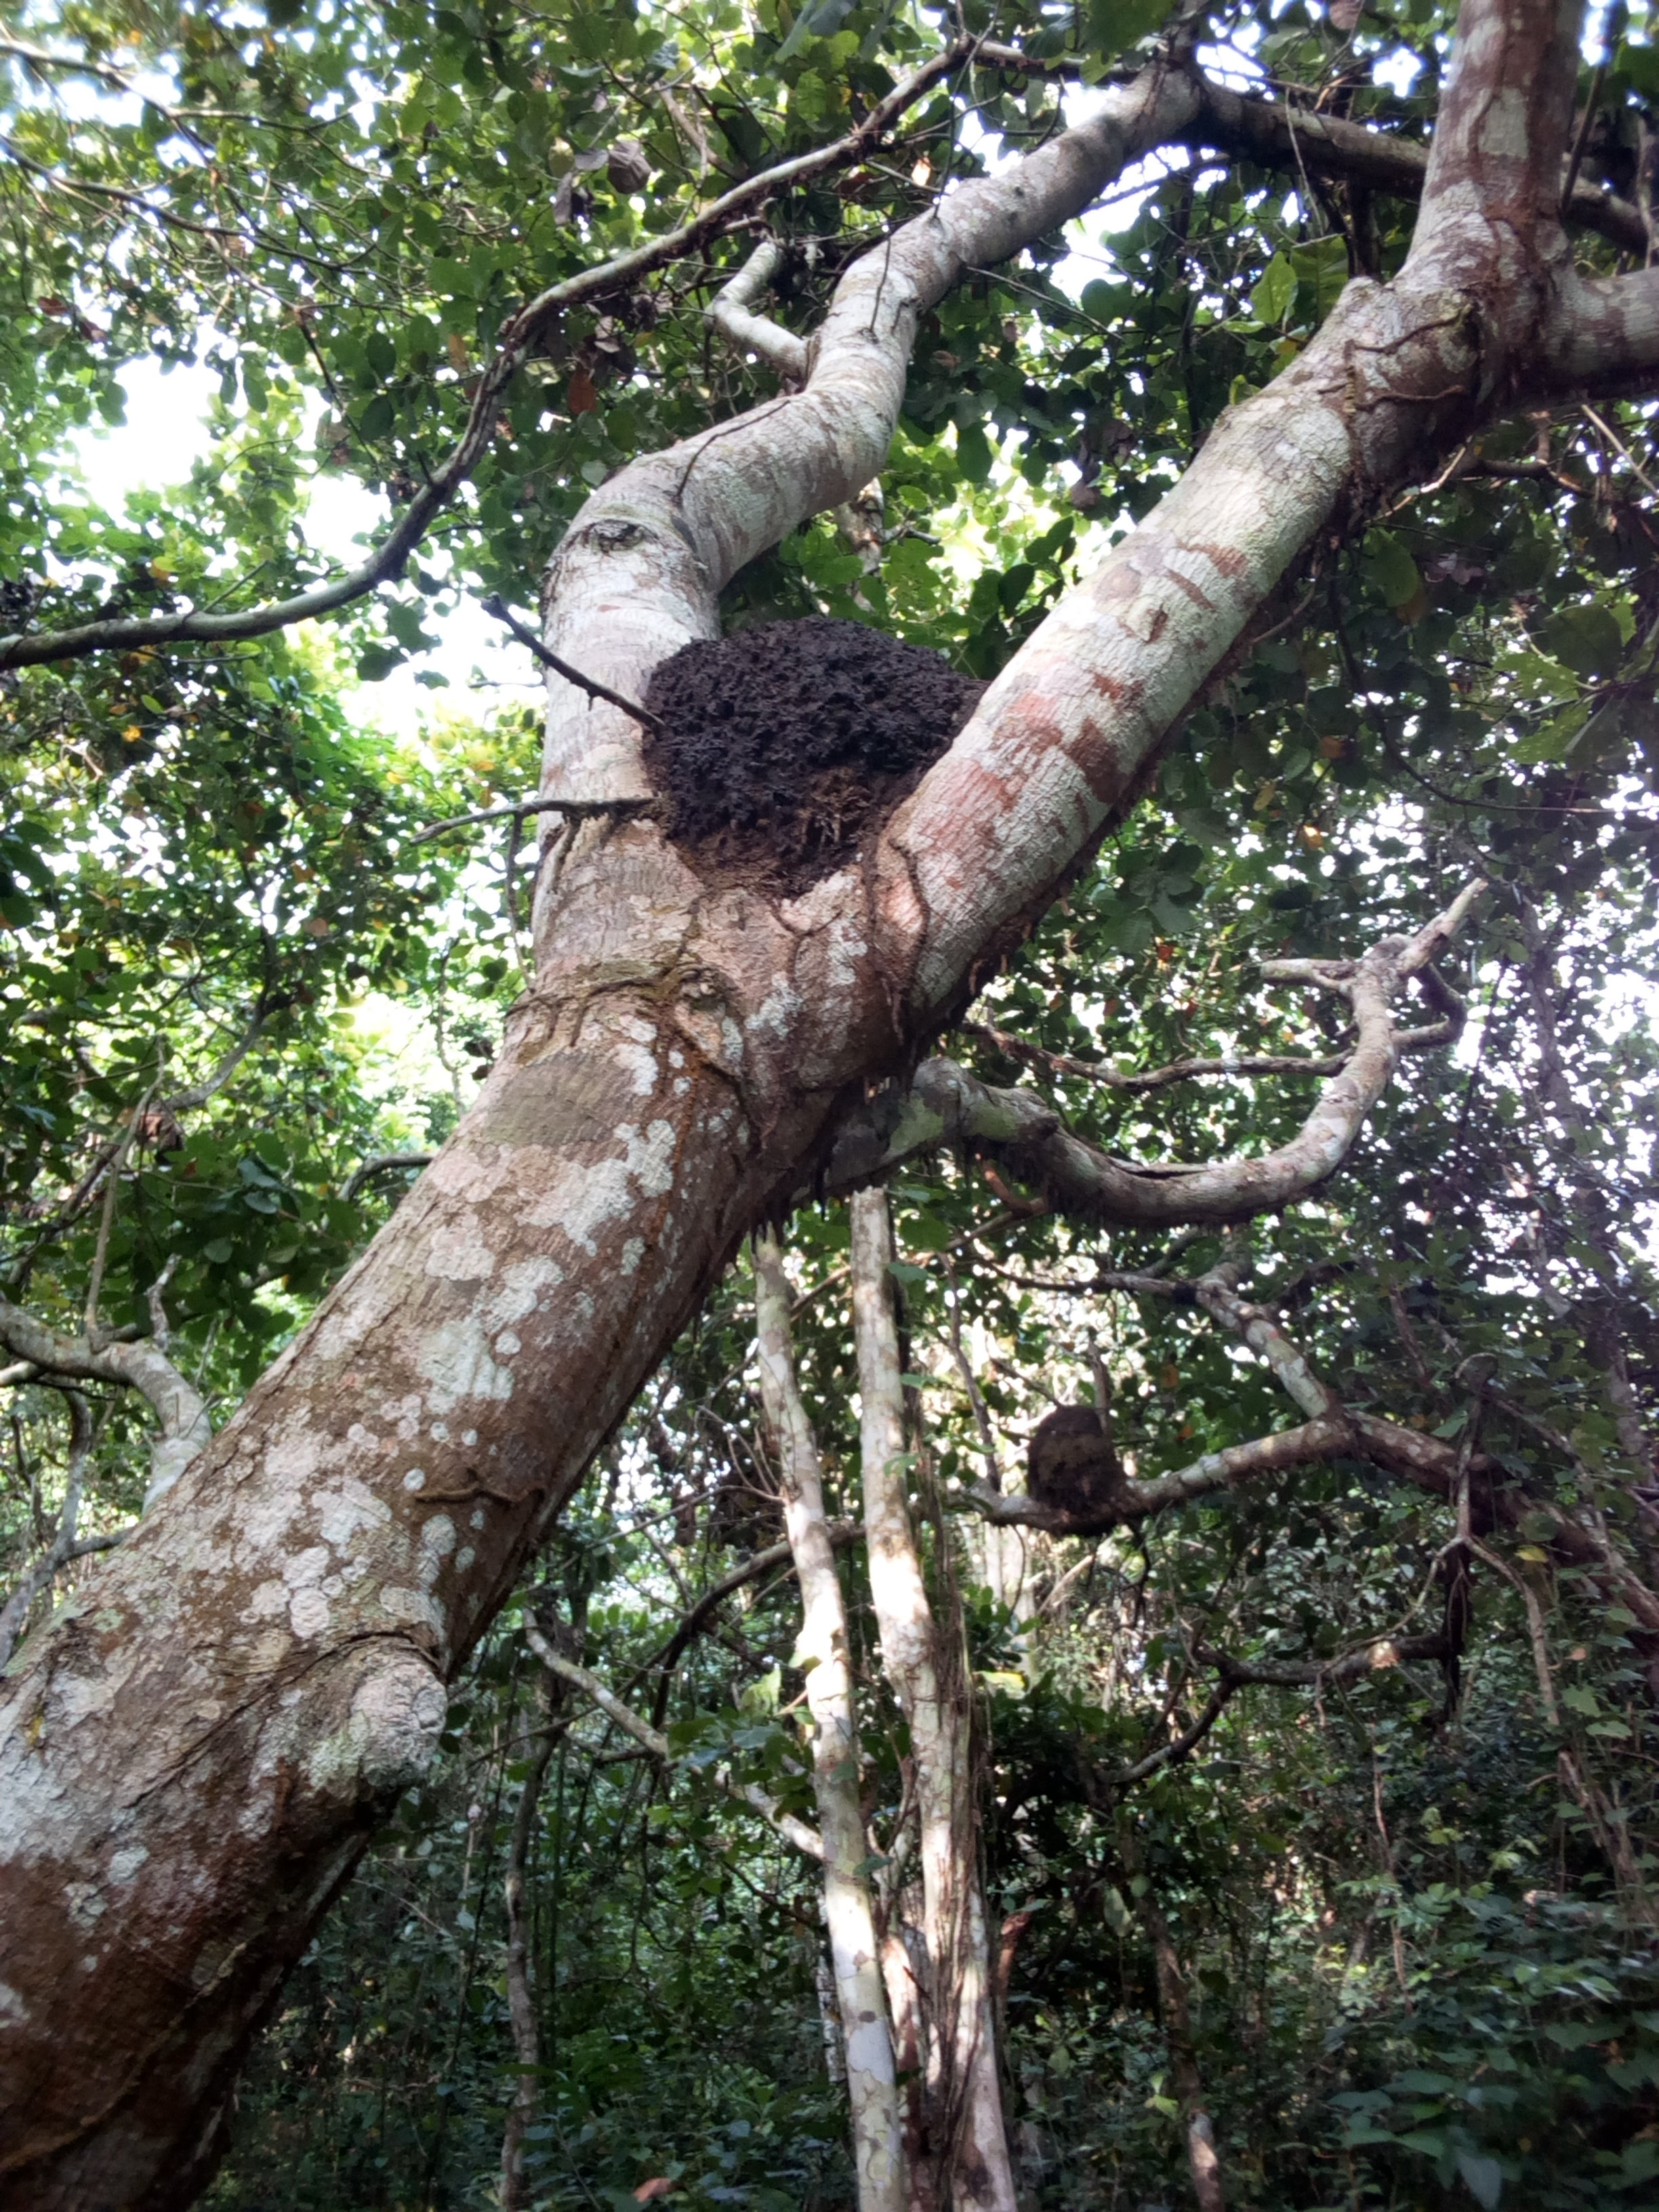Termites: (636, 611, 955, 841)
